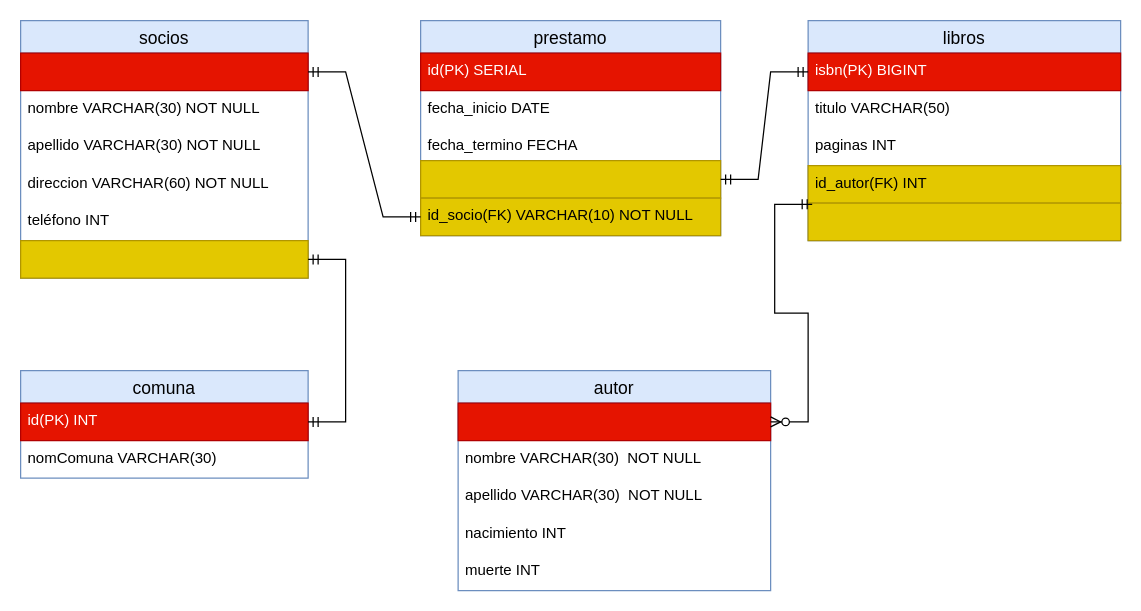
Some shapes in this 1141 by 611 pixel diagram are drawn without their labels. The centre of each missing label's shape, as x and y in pixels:
"codAutor SERIAL" goes at (x=614, y=421).
"id_coautor(FK) INT" goes at (x=964, y=221).
"id_comuna(FK) INT" goes at (x=163, y=258).
"id_libro(FK) BIGINT NOT NULL" goes at (x=570, y=178).
"rut (PK) VARCHAR(10) NOT NULL" goes at (x=163, y=71).
